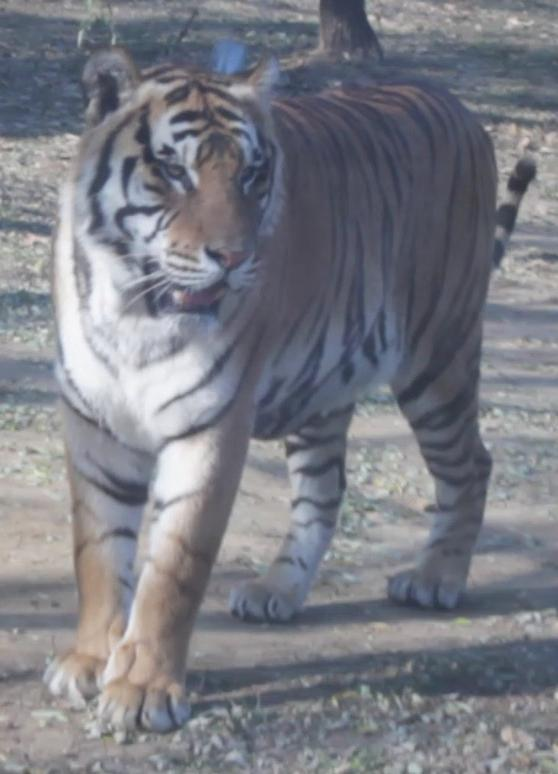tiger: (44, 49, 497, 735)
